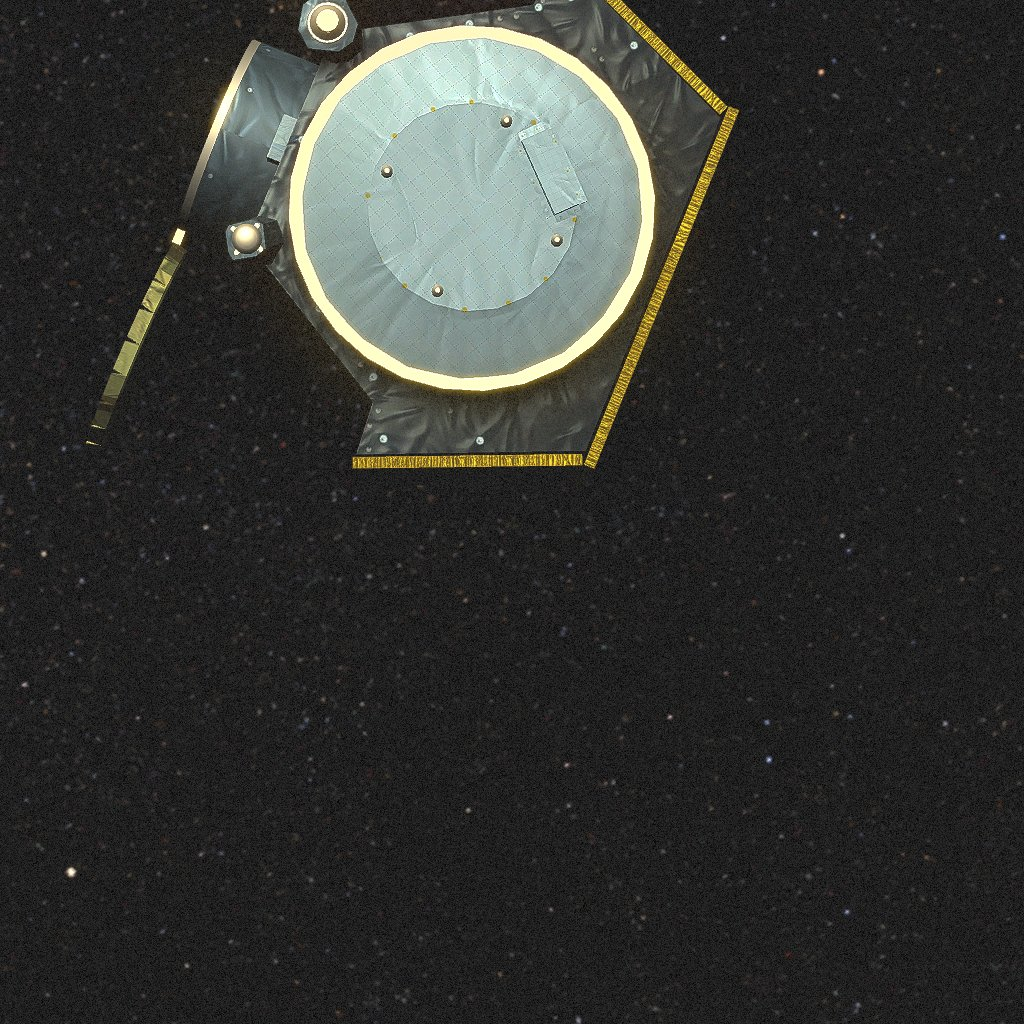cheops: (85, 0, 739, 489)
